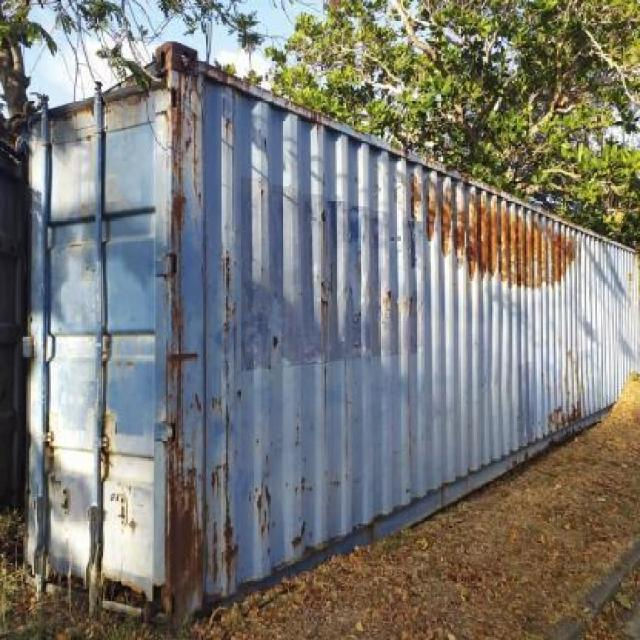rust: (440, 184, 577, 290), (167, 466, 204, 631), (226, 498, 240, 595), (170, 196, 187, 244), (427, 176, 438, 244), (410, 174, 421, 223), (293, 521, 307, 552)
